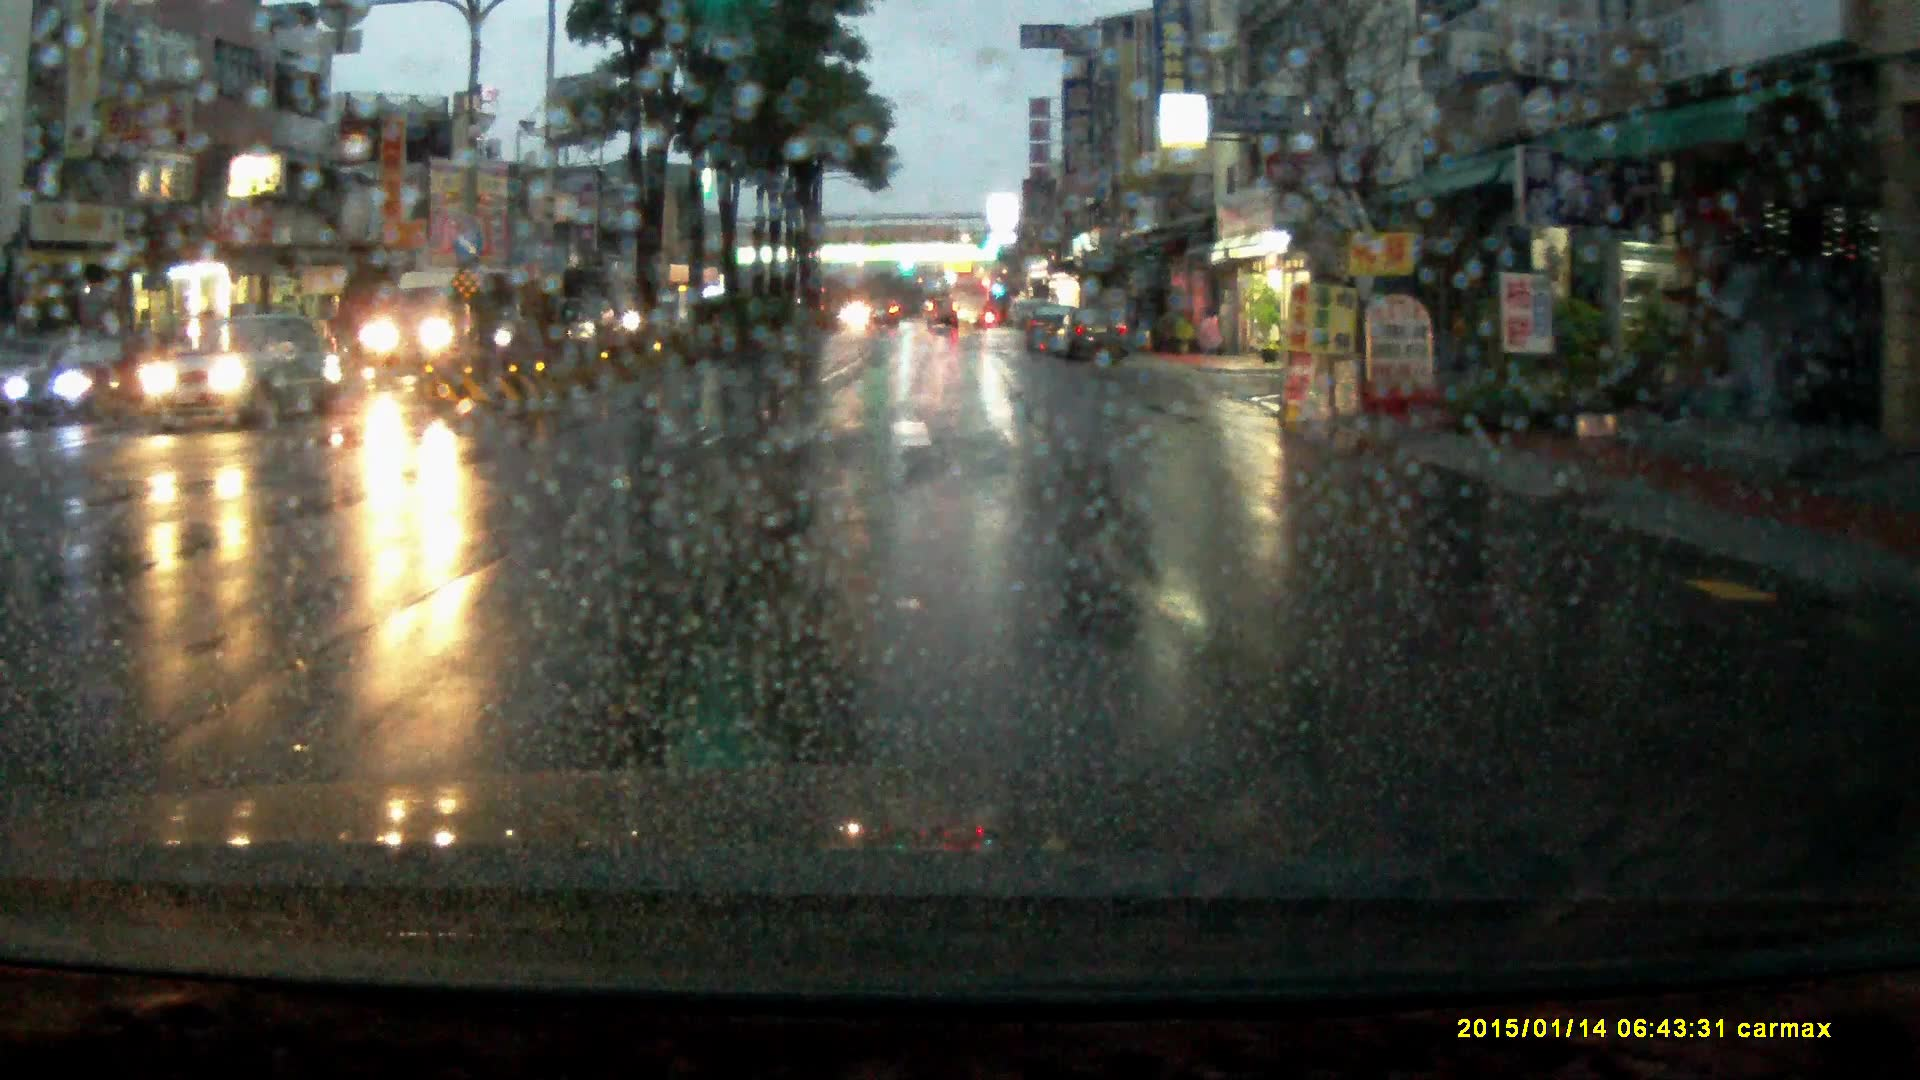vehicle: (135, 319, 338, 435), (365, 262, 512, 390), (15, 336, 150, 429), (1055, 307, 1131, 364), (1023, 303, 1075, 355), (947, 273, 986, 328), (927, 297, 959, 334), (865, 299, 899, 330)
